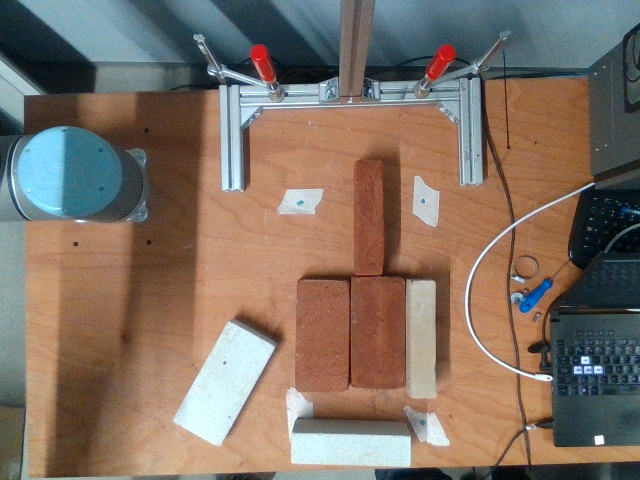brick: (174, 321, 275, 445), (352, 279, 404, 386), (298, 281, 346, 390)
brick-side: (292, 433, 411, 464), (356, 161, 383, 273), (411, 281, 435, 397)
